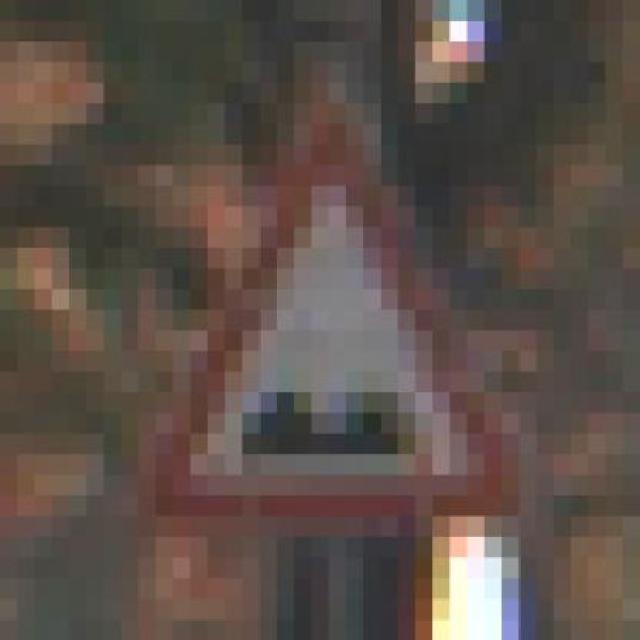Uneven Road: (121, 82, 536, 558)
